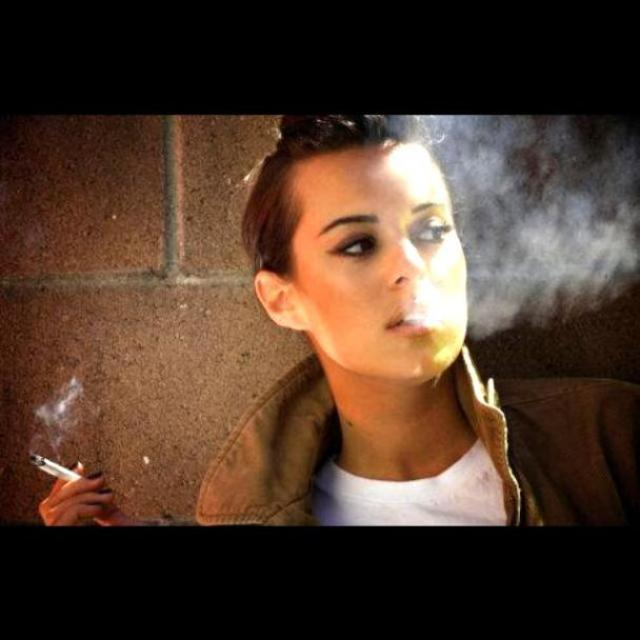rokok: (24, 445, 90, 487)
